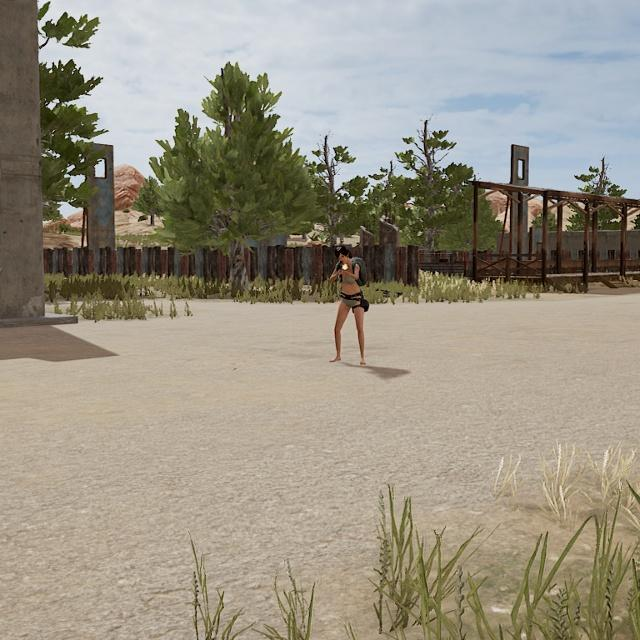head: (332, 245, 353, 267)
people: (325, 244, 372, 368)
